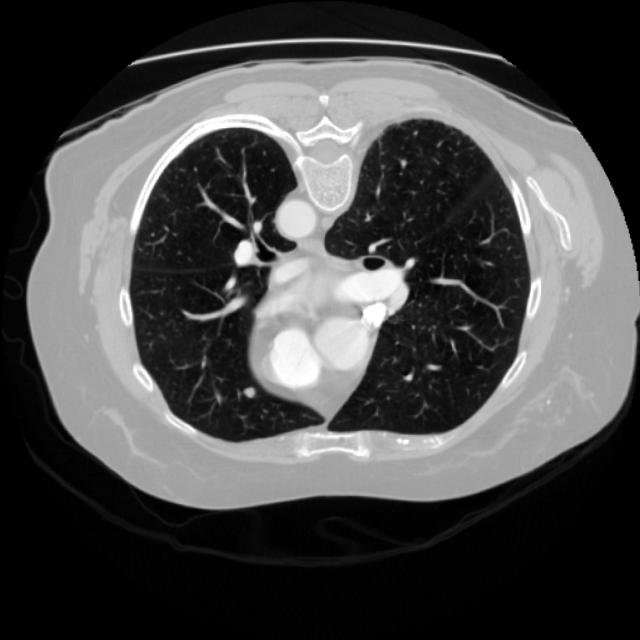nodule: (236, 378, 264, 406)
